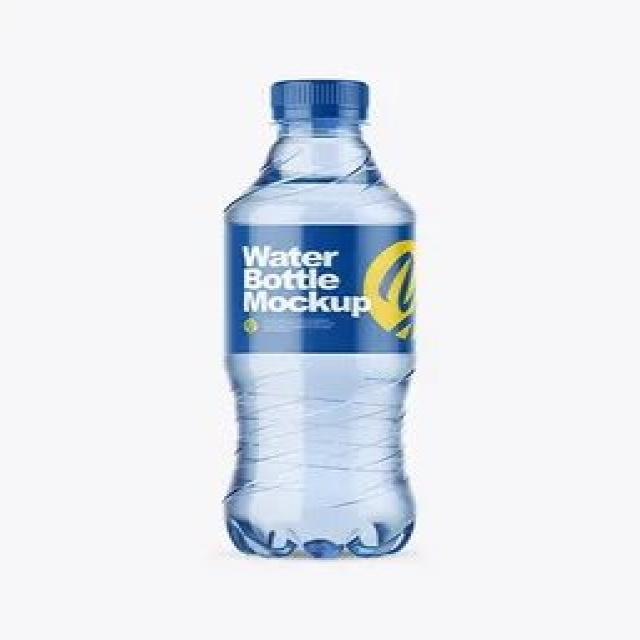blue: (224, 120, 415, 558)
